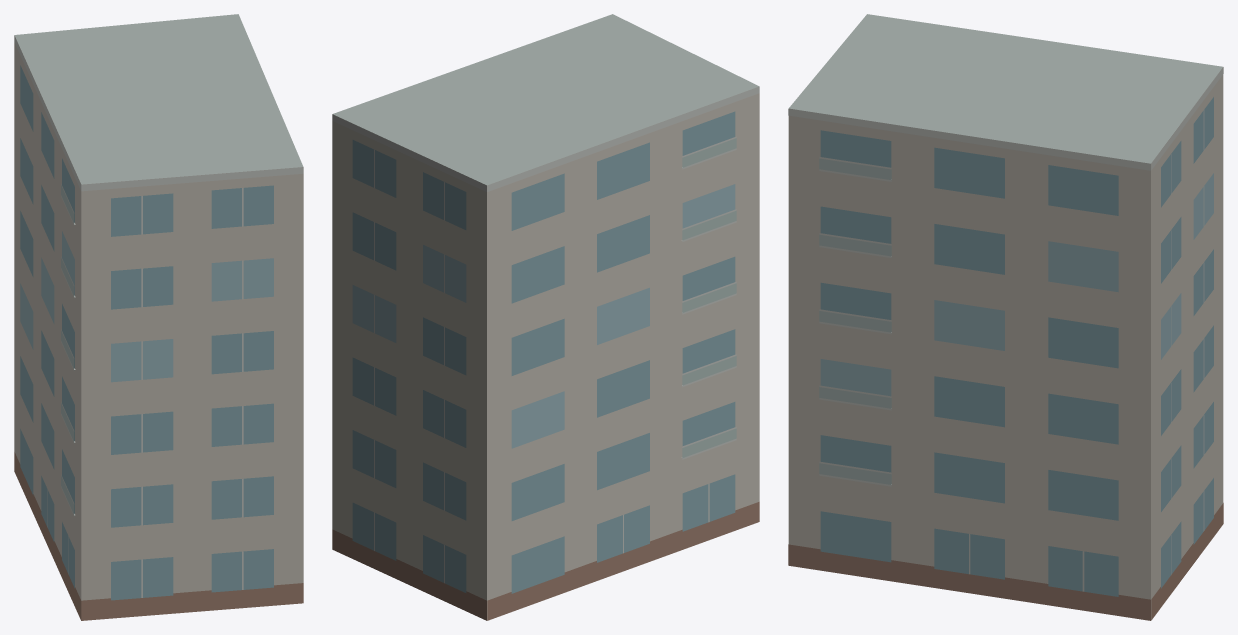
Rendered from survey-upis-33018197.glb.
3 renders of one model, left to right at view 1: azimuth 30°, elevation 25°; view 2: azimuth 150°, elevation 25°; view 3: azimuth 270°, elevation 25°, orthographic. The views are drawn at different scales.
Visible parts, largest first — view 1: survey-upis-33018197.tmp; view 2: survey-upis-33018197.tmp; view 3: survey-upis-33018197.tmp.
Boxes of the visible parts, x1,y1,x2,y2 form: survey-upis-33018197.tmp: [14, 14, 303, 620]; survey-upis-33018197.tmp: [332, 14, 759, 620]; survey-upis-33018197.tmp: [788, 14, 1223, 620].
Bounding box in the file's own units: 11.07 × 15.75 × 13.59.
